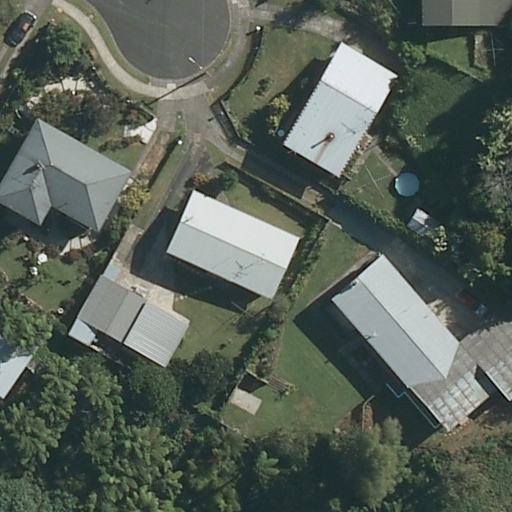DT: (190, 56, 209, 77)
